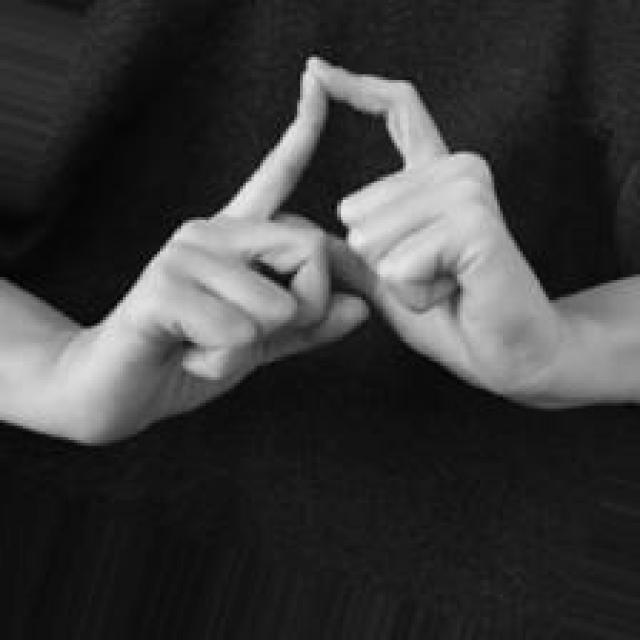D: (143, 56, 567, 406)
